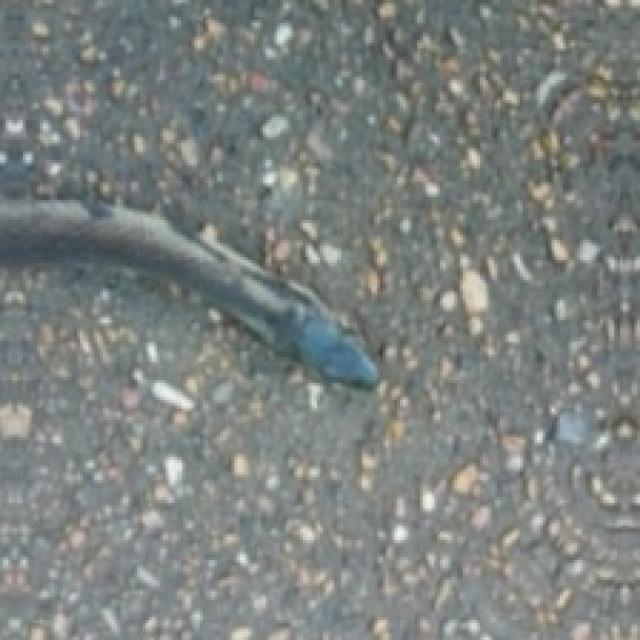reddish rat snake: (0, 200, 374, 386)
